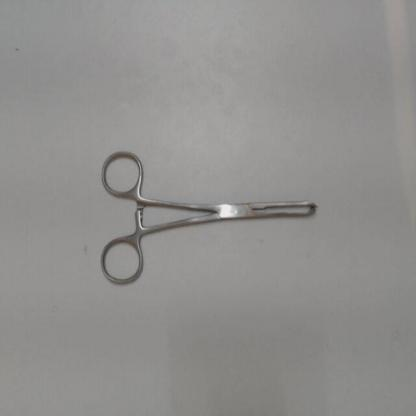Allis Tissue Forceps: (95, 141, 329, 298)
